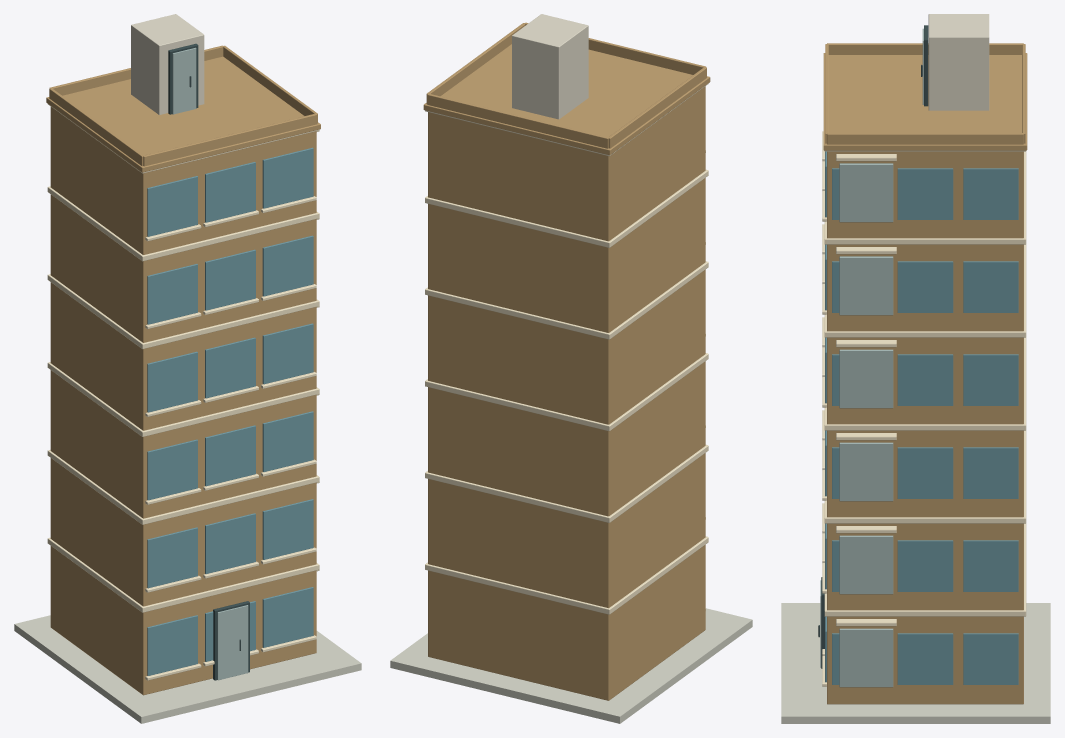
The model's file is medium-2x2-corner-villa-02.glb.
3 renders of one model, left to right at view 1: azimuth 30°, elevation 25°; view 2: azimuth 150°, elevation 25°; view 3: azimuth 270°, elevation 25°, orthographic. The views are drawn at different scales.
Parts seen in each view (by area): view 1: Storey_03, Storey_02, Storey_04, Storey_05, Storey_06, Storey_01, RoofCap, LotPlinth, RoofAccess, FrontWindow_04.002, FrontWindow_05.002, FrontWindow_01.002 (+28 smaller); view 2: Storey_01, Storey_04, Storey_05, Storey_06, Storey_02, Storey_03, RoofCap, LotPlinth, RoofAccess, RoofParapet.001, SlabEdge, SlabEdge.002 (+6 smaller); view 3: RoofCap, LotPlinth, Storey_01, Storey_02, Storey_03, Storey_04, Storey_05, Storey_06, RoofAccess, CornerInsetGlass, CornerInsetGlass.001, CornerInsetGlass.002 (+28 smaller).
Part boxes in pixels (x1,y1,x2,y2): Storey_03: (50,370,316,518); Storey_02: (50,458,316,606); Storey_04: (50,282,316,430); Storey_05: (50,194,316,342); Storey_06: (50,107,316,254); Storey_01: (50,546,316,695); RoofCap: (46,56,320,172); LotPlinth: (14,615,361,723); RoofAccess: (131,14,204,114); FrontWindow_04.002: (262,323,313,384); FrontWindow_05.002: (262,235,313,296); FrontWindow_01.002: (262,587,313,647); Storey_01: (428,545,705,700); Storey_04: (428,269,705,424); Storey_05: (428,178,705,332); Storey_06: (428,86,705,241); Storey_02: (428,453,705,608); Storey_03: (428,361,705,516); RoofCap: (423,44,710,155); LotPlinth: (390,608,752,723); RoofAccess: (512,14,588,119); RoofParapet.001: (427,93,608,148); SlabEdge: (425,536,708,614); SlabEdge.002: (425,353,708,431); RoofCap: (823,53,1027,150); LotPlinth: (781,603,1050,723); Storey_01: (827,616,1023,704); Storey_02: (827,523,1023,610); Storey_03: (827,430,1023,517); Storey_04: (827,337,1023,424); Storey_05: (827,244,1023,331); Storey_06: (827,151,1023,238); RoofAccess: (928,14,989,110); CornerInsetGlass: (839,628,893,687); CornerInsetGlass.001: (839,535,893,594); CornerInsetGlass.002: (839,442,893,501).
Bounding box in the file's own units: 8 × 21.04 × 8.
